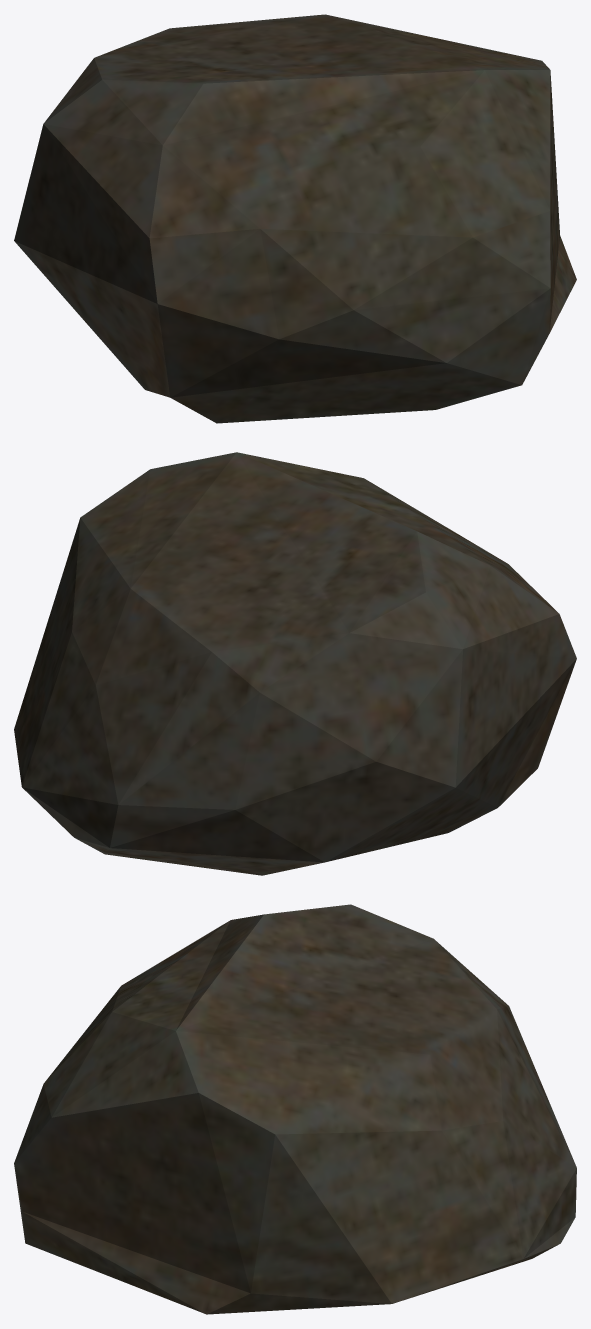
The model's file is piedra_stone_09.glb.
The picture shows the model from 3 angles, top to bottom: view 1: azimuth 30°, elevation 25°; view 2: azimuth 150°, elevation 25°; view 3: azimuth 270°, elevation 25°; orthographic projection. The views are drawn at different scales.
Visible parts, largest first — view 1: Stone_09; view 2: Stone_09; view 3: Stone_09.
Part boxes in pixels (x1,y1,x2,y2): Stone_09: (14, 14, 576, 423); Stone_09: (14, 452, 576, 875); Stone_09: (14, 904, 576, 1314).
Bounding box in the file's own units: 0.901 × 0.5831 × 1.
Materials: 1 (1 with a texture image).
